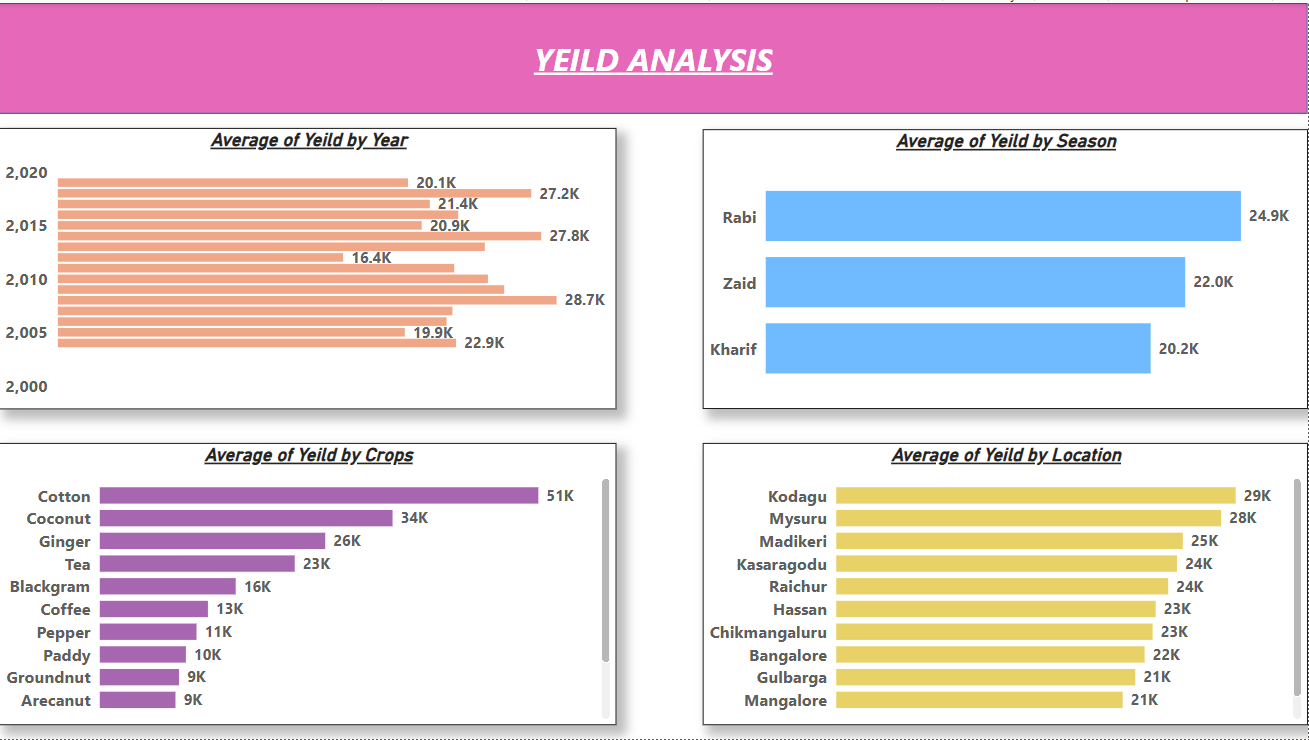

What the dashboard file says about the page in this screenshot:
{"tool":"powerbi","page":{"name":"Yeild Analysis","canvas":[1280,720],"ordinal":3},"visuals":[{"type":"shape","box":[0,0,1280.3,108.4],"z":0},{"type":"barChart","title":"Average of Yeild by Year ","fields":{"Category":["AGRICULTURE.YEAR"],"Y":["Sum(AGRICULTURE.YEILDS)"]},"box":[0,122.3,604.1,275.1],"z":1000},{"type":"barChart","title":"Average of Yeild by Crops","fields":{"Category":["AGRICULTURE.CROPS"],"Y":["Sum(AGRICULTURE.YEILDS)"]},"box":[0,430.4,604.1,276.4],"z":2000},{"type":"barChart","title":"Average of Yeild by Season","fields":{"Category":["AGRICULTURE.SEASON"],"Y":["Sum(AGRICULTURE.YEILDS)"]},"box":[688.5,123.5,591.9,273.9],"z":3000},{"type":"barChart","title":"Average of Yeild by Location","fields":{"Category":["AGRICULTURE.LOCATION"],"Y":["Sum(AGRICULTURE.YEILDS)"]},"box":[688.5,430.4,591.9,276.4],"z":4000}]}

Visuals, with their boxes in screenshot pixels (x1, y1, x2, y2), scaled from the page's 1280x720 canvas onto the 1309x740 screenshot:
shape: box=[0, 0, 1308, 111]
"Average of Yeild by Year " barChart: box=[0, 126, 618, 408]
"Average of Yeild by Crops" barChart: box=[0, 442, 618, 726]
"Average of Yeild by Season" barChart: box=[704, 127, 1308, 408]
"Average of Yeild by Location" barChart: box=[704, 442, 1308, 726]
